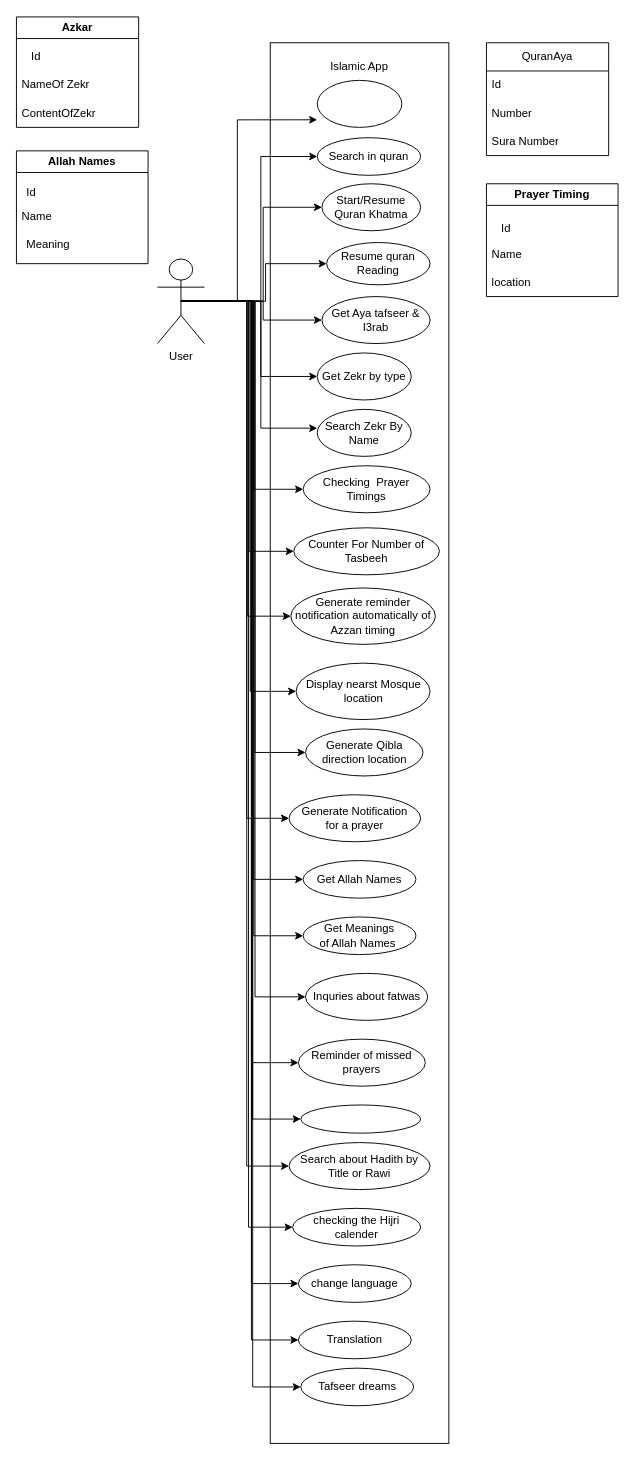
Image size: 635x1460. Some labels were removed from this diagram. The shapes that lost their labels are listed below. From the top down, each one's centre as x and y in pixels, then its label:
At pixel 359 103: "Read Quran Page".
At pixel 360 1118: "Get Hadith".
